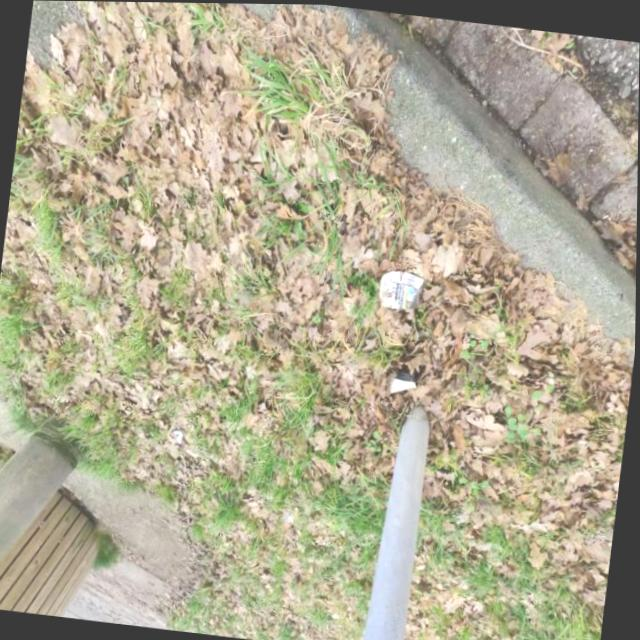Cup: (387, 366, 419, 395)
Paper: (375, 264, 426, 310)
